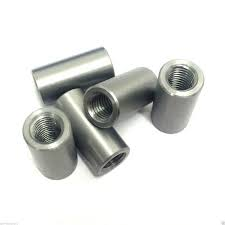Thread: (161, 62, 199, 95), (31, 112, 63, 145), (84, 91, 116, 123)
